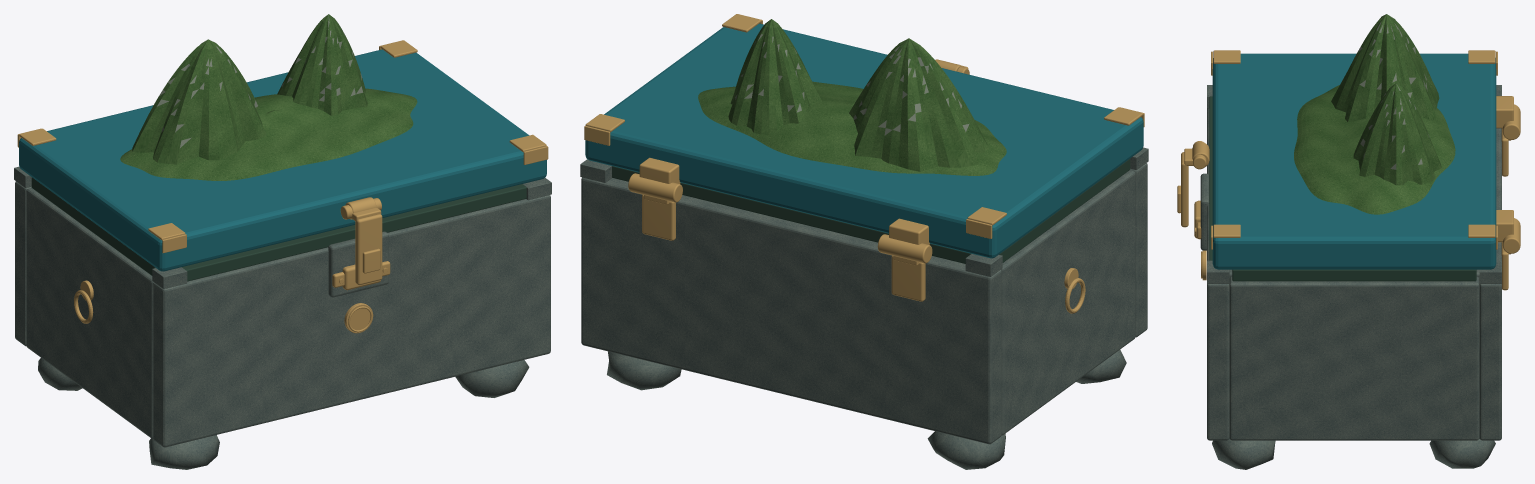
File: saint-lucia.glb
The picture shows the model from 3 angles, left to right: view 1: azimuth 30°, elevation 25°; view 2: azimuth 150°, elevation 25°; view 3: azimuth 270°, elevation 25°; orthographic projection. The views are drawn at different scales.
Visible parts, largest first — view 1: Volcanic body / long, Lid / polished slab, Volcanic body / side, Terrain / Piton Mitan inspired ridge, Terrain / Gros Piton, Terrain / Petit Piton, Mineral seam / long, Volcanic body / long.001, Volcanic foot, Volcanic foot.002, Latch / lifting hasp, Volcanic body / clasp seat (+4 smaller); view 2: Volcanic body / long.001, Lid / polished slab, Volcanic body / side, Terrain / Gros Piton, Terrain / Piton Mitan inspired ridge, Terrain / Petit Piton, Mineral seam / long.001, Volcanic body / long, Volcanic foot.001, Volcanic foot.003, Mineral seam / side, Hinge / fixed mount (+8 smaller); view 3: Lid / polished slab, Volcanic body / side.001, Terrain / Piton Mitan inspired ridge, Terrain / Gros Piton, Terrain / Petit Piton, Volcanic body / long.001, Volcanic body / long, Mineral seam / side.001, Volcanic foot.003, Volcanic foot.002, Volcanic body / clasp seat, Mineral seam / long (+11 smaller).
Part boxes in pixels (x1,y1,x2,y2): Volcanic body / long: [153, 195, 550, 447]; Lid / polished slab: [19, 49, 546, 271]; Volcanic body / side: [26, 188, 153, 438]; Terrain / Piton Mitan inspired ridge: [120, 88, 417, 180]; Terrain / Gros Piton: [132, 39, 266, 164]; Terrain / Petit Piton: [277, 14, 367, 115]; Mineral seam / long: [182, 184, 526, 281]; Volcanic body / long.001: [15, 181, 31, 346]; Volcanic foot: [149, 435, 219, 469]; Volcanic foot.002: [455, 360, 529, 397]; Latch / lifting hasp: [355, 214, 382, 285]; Volcanic body / clasp seat: [328, 231, 388, 297]; Volcanic body / long.001: [581, 177, 1001, 444]; Lid / polished slab: [585, 23, 1143, 258]; Volcanic body / side: [1001, 170, 1135, 435]; Terrain / Gros Piton: [849, 38, 989, 171]; Terrain / Piton Mitan inspired ridge: [698, 81, 1006, 175]; Terrain / Petit Piton: [728, 19, 822, 134]; Mineral seam / long.001: [612, 166, 971, 263]; Volcanic body / long: [1130, 163, 1147, 337]; Volcanic foot.001: [927, 431, 1005, 469]; Volcanic foot.003: [607, 351, 681, 390]; Mineral seam / side: [999, 159, 1130, 262]; Hinge / fixed mount: [891, 255, 925, 301]; Lid / polished slab: [1212, 53, 1496, 269]; Volcanic body / side.001: [1229, 276, 1479, 440]; Terrain / Piton Mitan inspired ridge: [1294, 85, 1455, 214]; Terrain / Gros Piton: [1331, 14, 1439, 122]; Terrain / Petit Piton: [1353, 83, 1441, 185]; Volcanic body / long.001: [1479, 128, 1501, 440]; Volcanic body / long: [1207, 108, 1229, 440]; Mineral seam / side.001: [1232, 269, 1476, 281]; Volcanic foot.003: [1429, 439, 1495, 468]; Volcanic foot.002: [1212, 439, 1275, 469]; Volcanic body / clasp seat: [1200, 173, 1209, 250]; Mineral seam / long: [1209, 96, 1212, 260].
Size of the model in its own units: 3.79 by 3.24 by 2.88.
6 materials, 2 textured.
